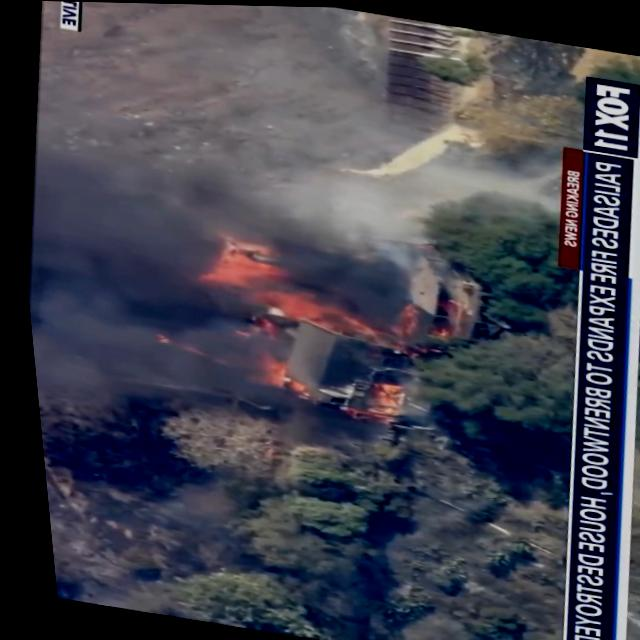Smoke: (14, 184, 229, 404)
